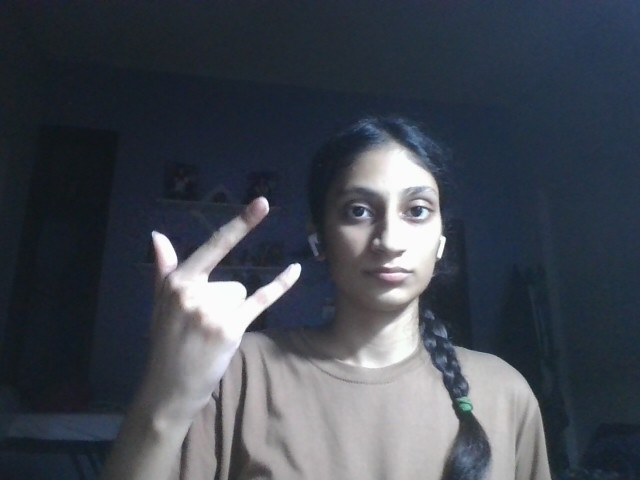i love you: (150, 195, 304, 407)
